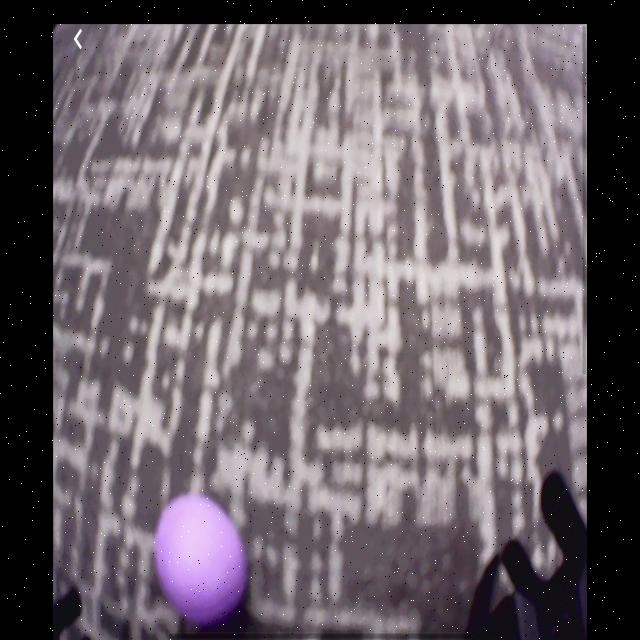ball: (154, 493, 246, 624)
